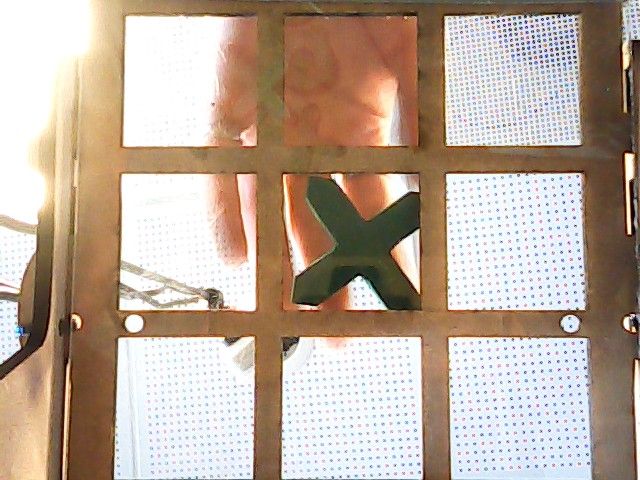X: (290, 173, 426, 317)
